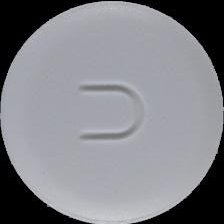0179-0210: (0, 0, 224, 224)
